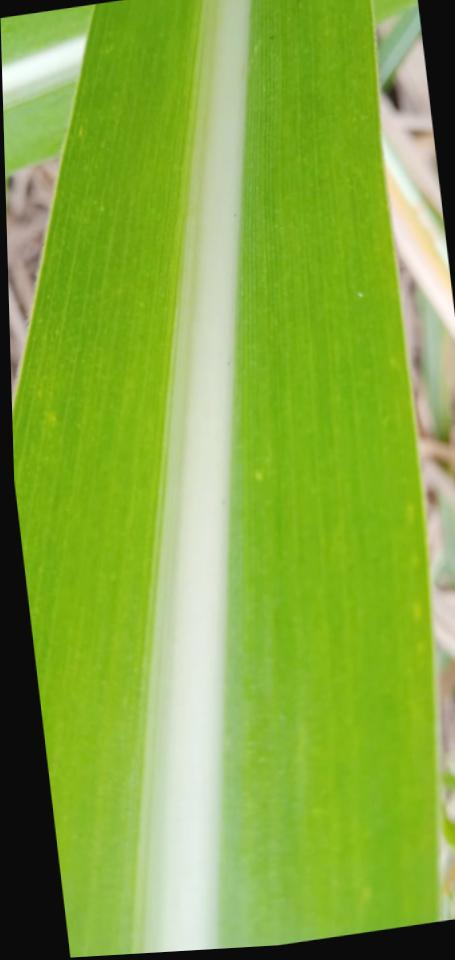Healthy: (12, 0, 440, 958), (1, 5, 96, 176), (373, 0, 409, 26)
